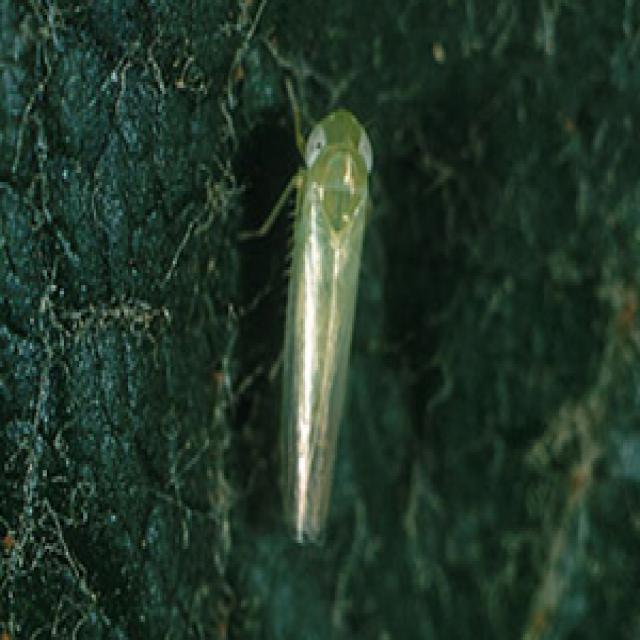Yechan: (252, 79, 400, 575)
